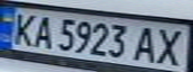2: (90, 19, 112, 57)
3: (106, 21, 133, 60)
5: (54, 16, 78, 52)
9: (69, 19, 93, 55)
A: (130, 24, 163, 63), (30, 12, 57, 50)
K: (6, 10, 42, 47)
X: (151, 25, 190, 66)
